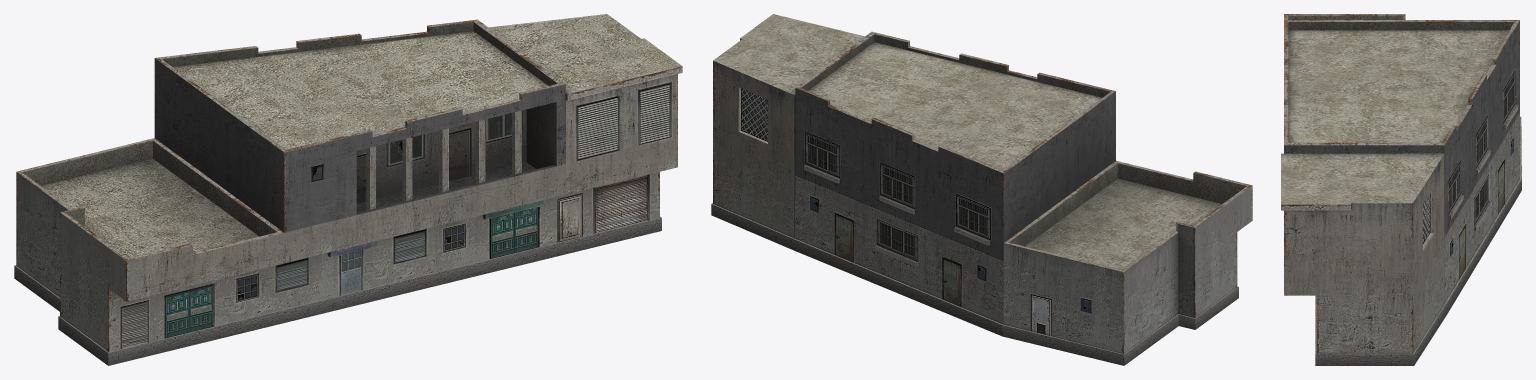
The model's file is buildings_22.FBX.
3 views of the same model, side by side, from view 1: azimuth 30°, elevation 25°; view 2: azimuth 150°, elevation 25°; view 3: azimuth 270°, elevation 25° (orthographic). The views are drawn at different scales.
Visible parts, largest first — view 1: Box001; view 2: Box001; view 3: Box001.
Boxes of the visible parts, x1,y1,x2,y2 form: Box001: [14, 14, 682, 365]; Box001: [711, 14, 1252, 365]; Box001: [1281, 14, 1521, 365].
Bounding box in the file's own units: 2712 × 1119 × 873.
1 material, 1 textured.
